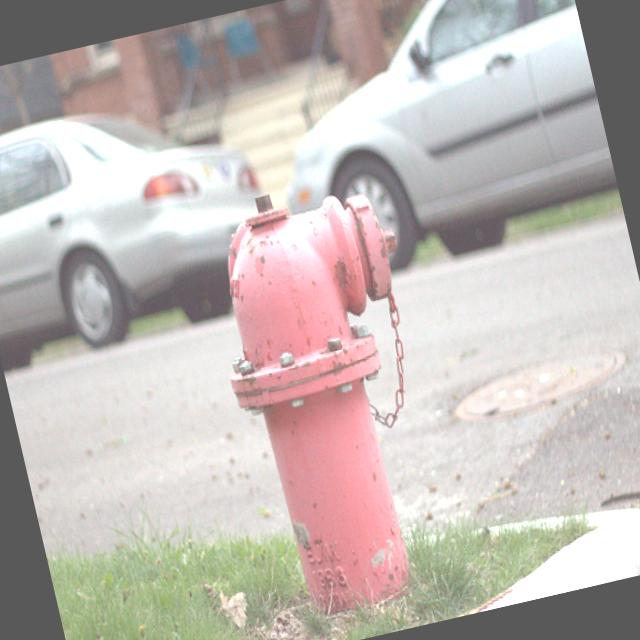Vehicle: (240, 0, 624, 289), (0, 72, 284, 366)
